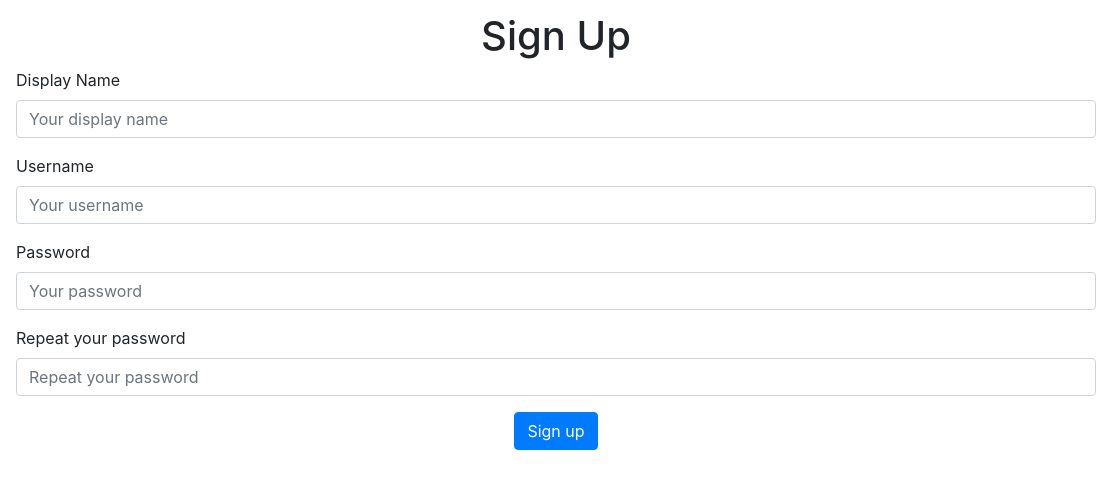
Test case: UserSignupPage › Interactions › enables signup button when password repeat is equal to password
The image size is (1113, 490).
In the field with placeholder "Your display name": x=556, y=119 [16,100,1096,138], type "display-name"
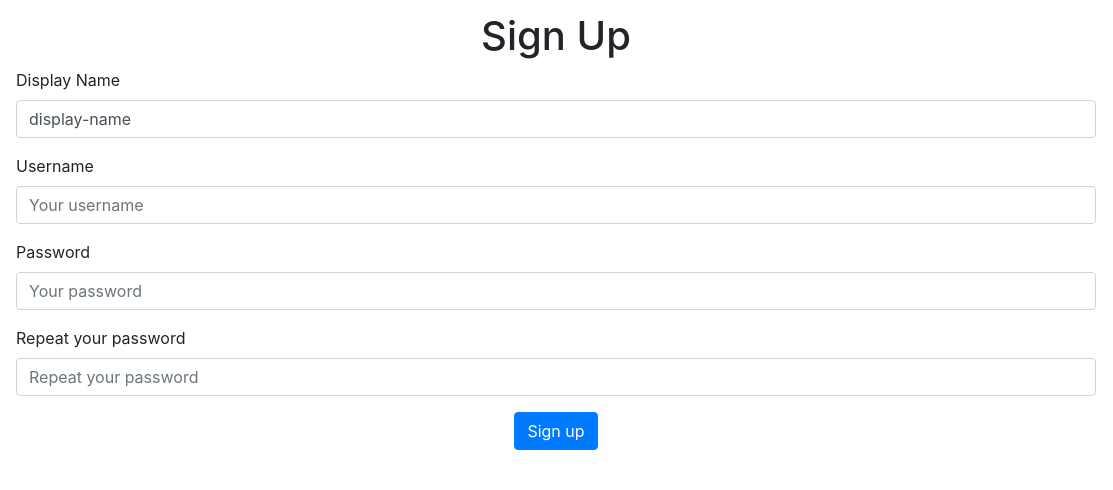
In the field with placeholder "Your username": x=556, y=205 [16,186,1096,224], type "username"
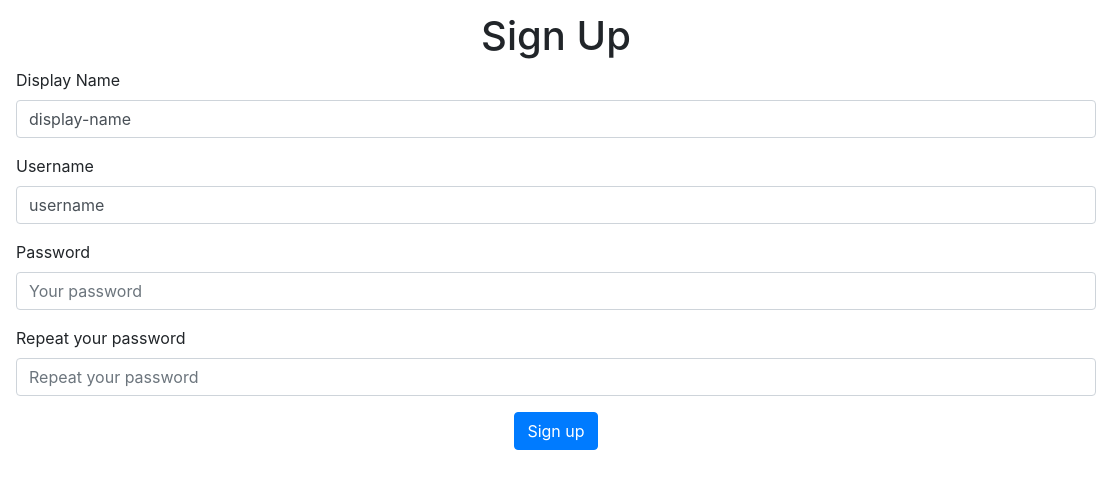
In the password field with placeholder "Your password": x=556, y=291 [16,272,1096,310], type "password"
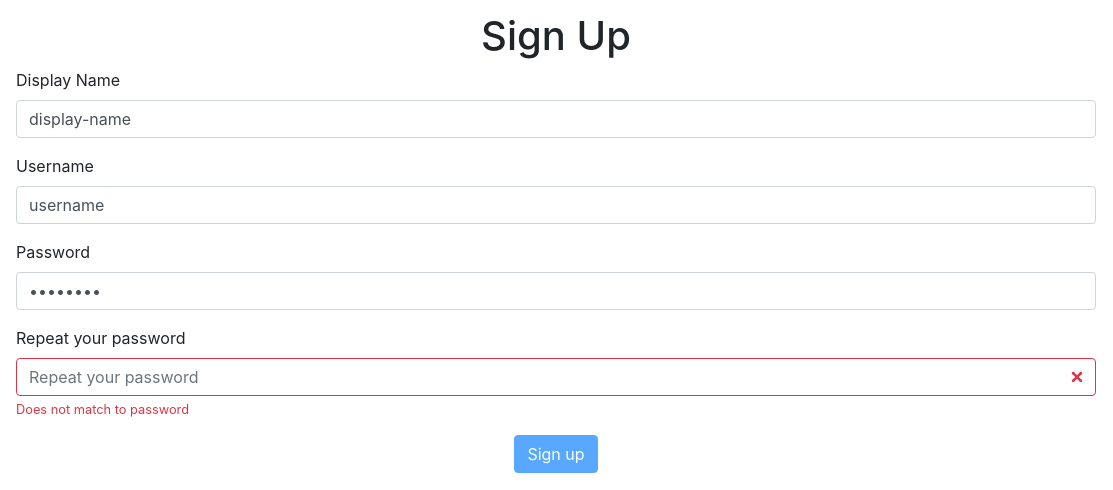
In the password field with placeholder "Repeat your password": x=556, y=377 [16,358,1096,396], type "password"
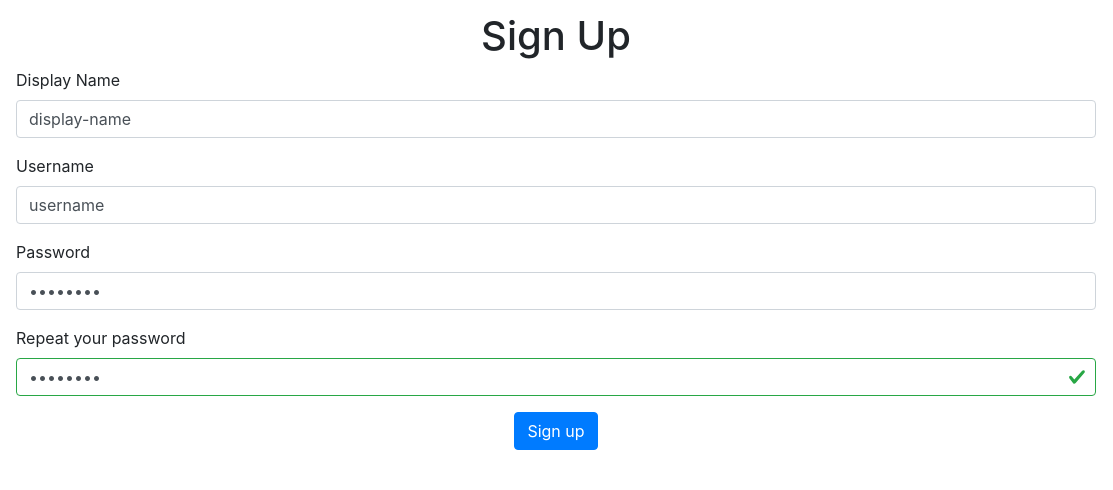
Expected: the button "Sign up" is enabled, [514,412,598,450]
